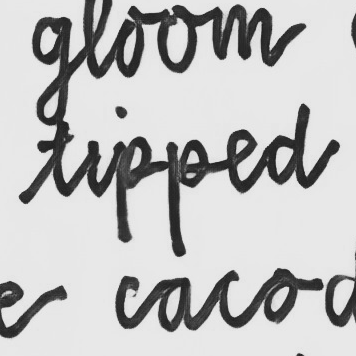d: (263, 102, 312, 188)
e: (223, 126, 259, 195)
i: (81, 136, 103, 197)
p: (163, 136, 212, 259), (108, 134, 154, 243)
t: (36, 118, 77, 199)
